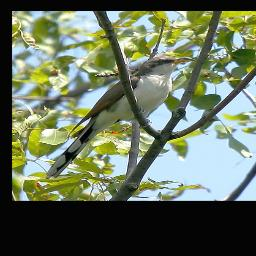Cuckoo: (44, 55, 196, 179)
